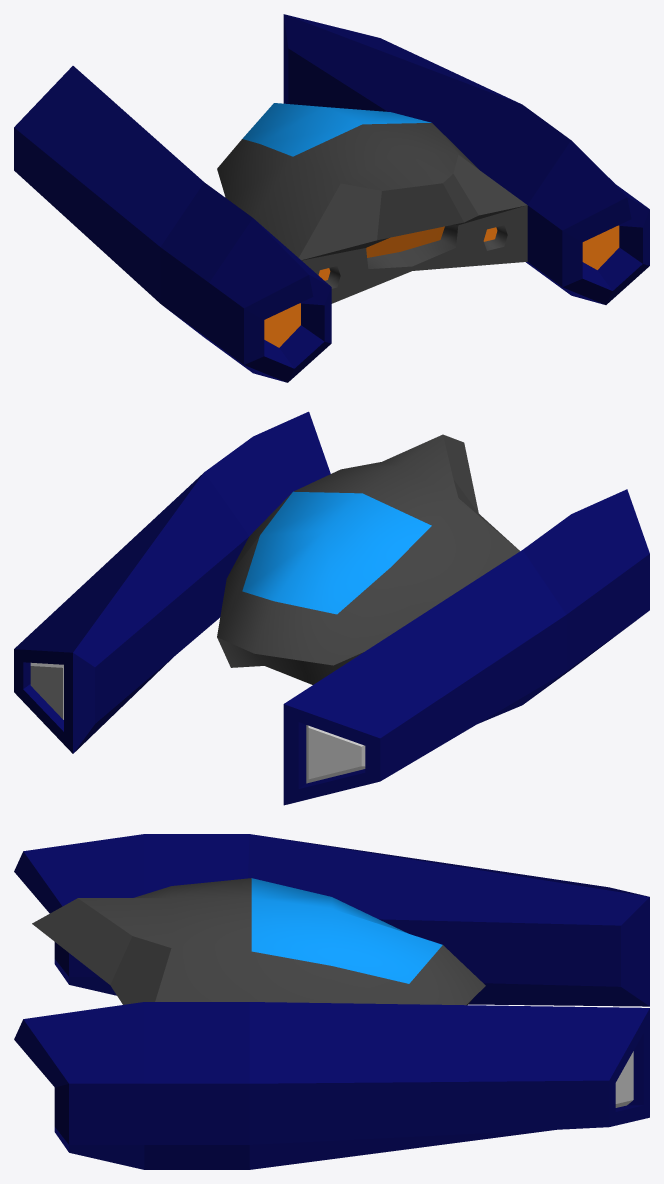
The model's file is Prototype_Ship_2.obj.
3 views of the same model, one above another, from view 1: azimuth 30°, elevation 25°; view 2: azimuth 150°, elevation 25°; view 3: azimuth 270°, elevation 25° (orthographic). The views are drawn at different scales.
Visible parts, largest first — view 1: Cube; view 2: Cube; view 3: Cube.
Boxes of the visible parts, box(x1,y1,x2,y2) form: Cube: box(14, 14, 649, 382); Cube: box(14, 411, 649, 805); Cube: box(14, 834, 649, 1169).
Bounding box in the file's own units: 3.18 × 1.3 × 3.99.
